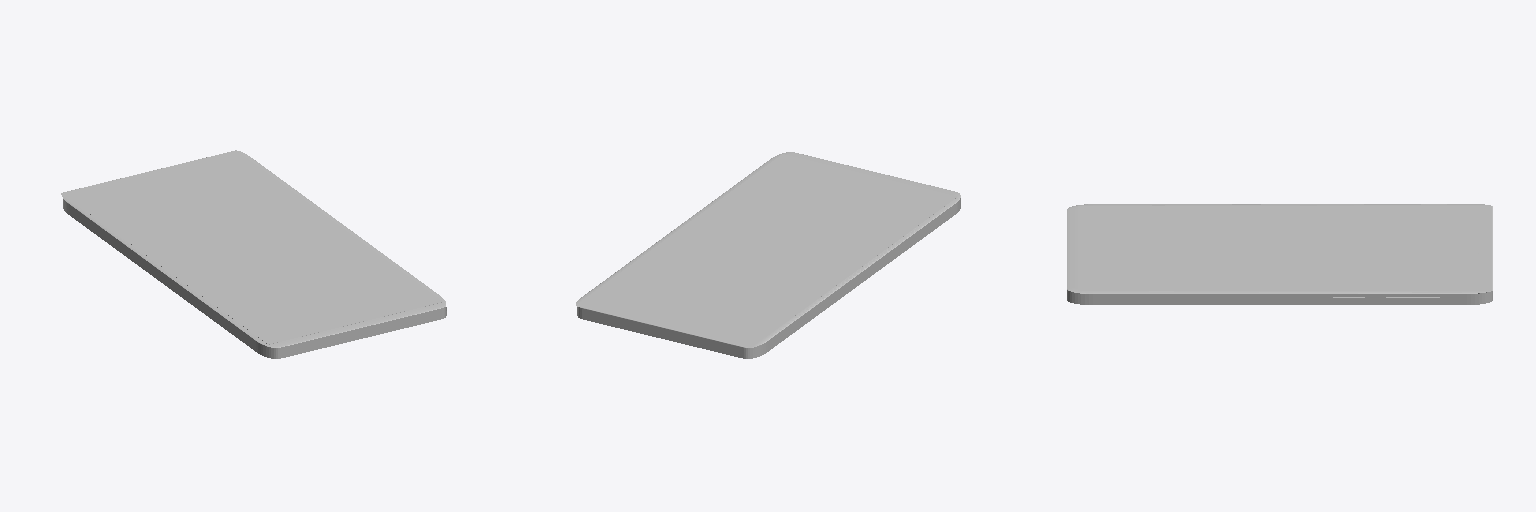
Rendered from telefon.obj.
The picture shows the model from 3 angles: view 1: azimuth 30°, elevation 25°; view 2: azimuth 150°, elevation 25°; view 3: azimuth 270°, elevation 25°; orthographic projection.
Parts seen in each view (by area): view 1: Screen, Telephone; view 2: Screen, Telephone; view 3: Screen, Telephone.
Part boxes in pixels (bbox=[...]): Screen: bbox=[77, 162, 442, 344]; Telephone: bbox=[61, 150, 446, 358]; Screen: bbox=[592, 154, 956, 336]; Telephone: bbox=[576, 152, 960, 358]; Screen: bbox=[1078, 206, 1460, 290]; Telephone: bbox=[1067, 204, 1492, 304].
Bounding box in the file's own units: 0.162 × 0.0116 × 0.32.